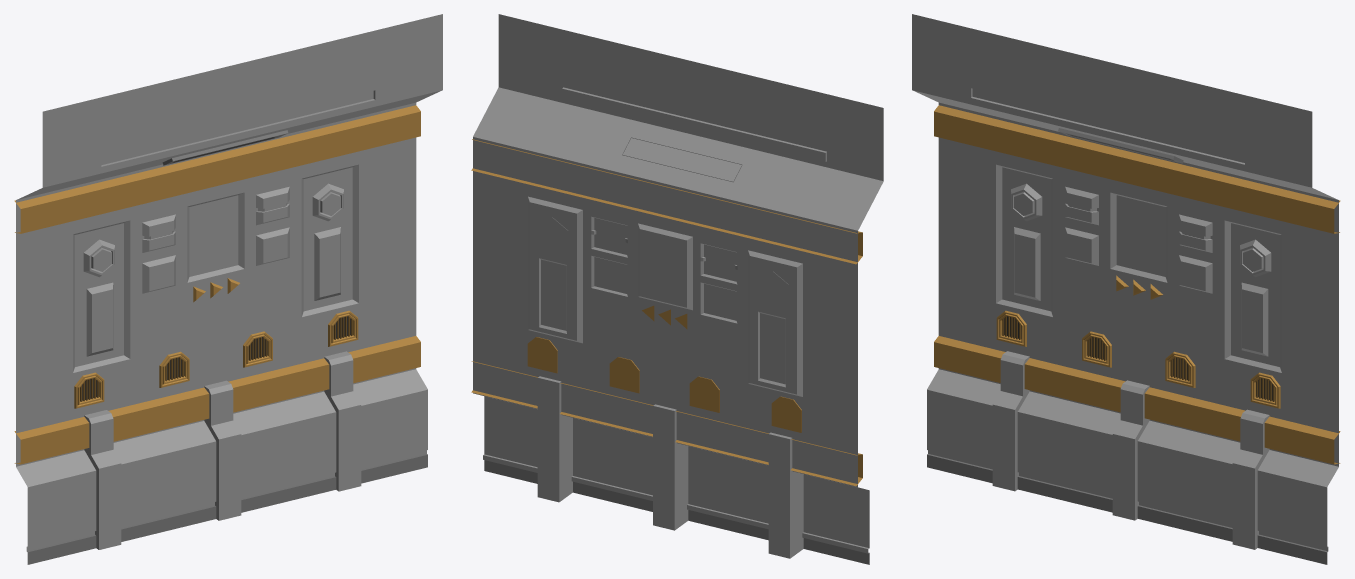
The model's file is wall-3-46444015d5.glb.
The picture shows the model from 3 angles, left to right: view 1: azimuth 30°, elevation 25°; view 2: azimuth 150°, elevation 25°; view 3: azimuth 330°, elevation 25°; orthographic projection. The views are drawn at different scales.
Visible parts, largest first — view 1: Wall_3.obj; view 2: Wall_3.obj; view 3: Wall_3.obj.
Boxes of the visible parts, bbox=[...] form: Wall_3.obj: bbox=[14, 14, 442, 564]; Wall_3.obj: bbox=[471, 14, 883, 564]; Wall_3.obj: bbox=[912, 14, 1340, 564].
Bounding box in the file's own units: 4 × 4.43 × 0.523.
